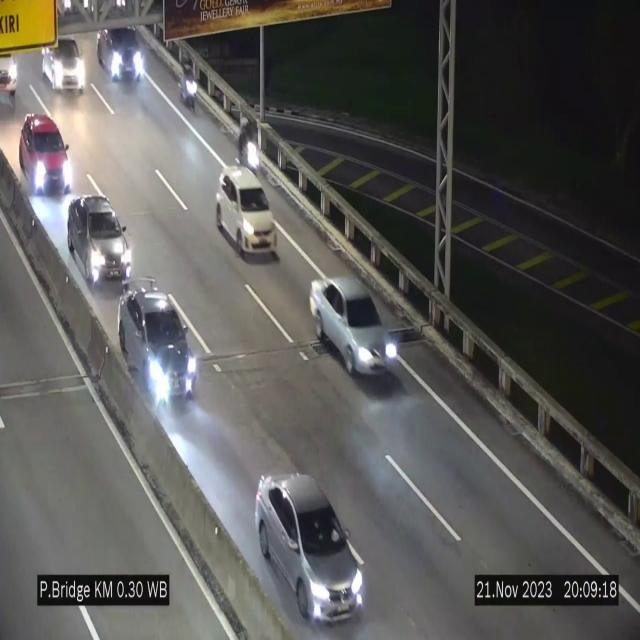Car: (255, 474, 363, 622), (118, 279, 198, 407), (309, 277, 403, 377), (65, 191, 136, 289), (16, 108, 77, 201), (216, 167, 277, 258), (43, 25, 93, 101), (97, 19, 147, 90)
Motorcycle: (238, 120, 270, 192), (178, 57, 208, 123)
